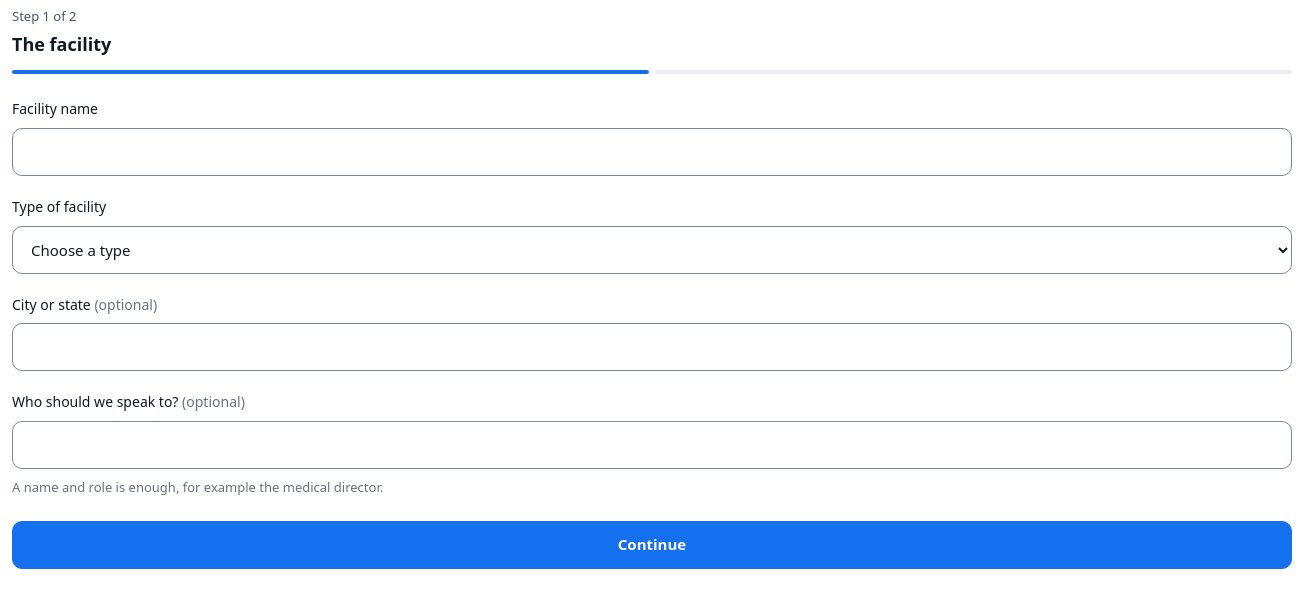
referral form › takes the referrer back to the facility step when hid-system refuses the facility’s name
This screenshot has width=1304, height=614.
Type "Lagos General Hospital" into the field named "facilityName". click: (652, 152)
box: [12,128,1292,176]
Select "Clinic" in the dropdown labelled "Type of facility". click: (652, 250)
box: [12,226,1292,274]
Click the button "Continue". click: (652, 545)
box: [12,521,1292,569]
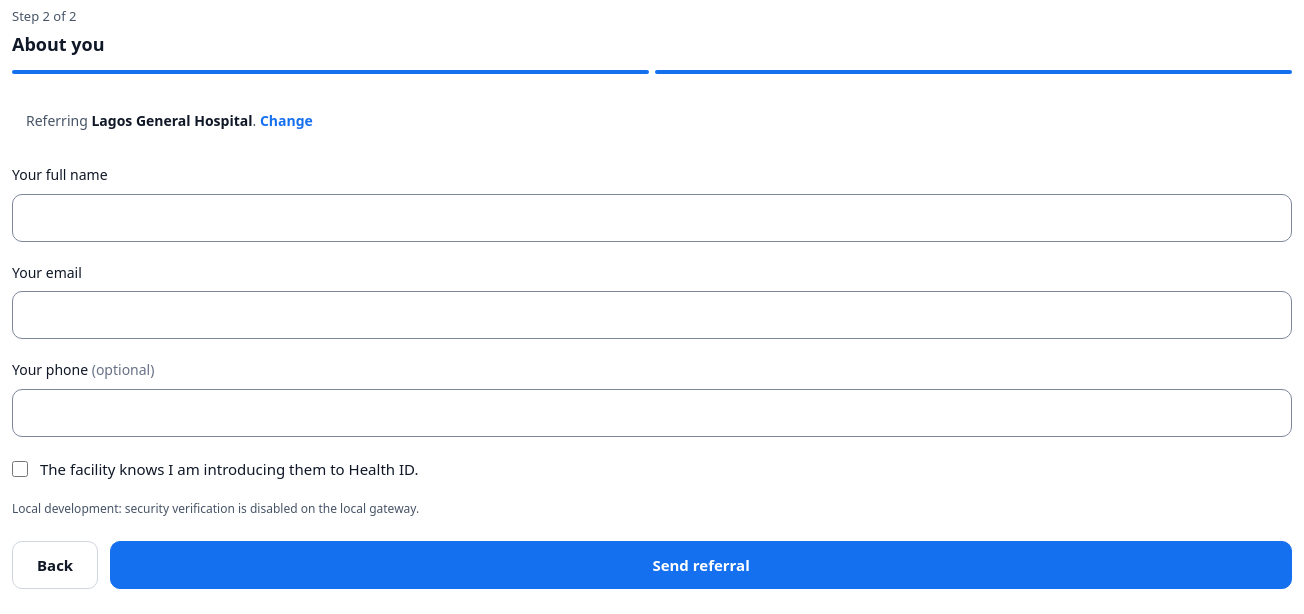
Type "Ada Okafor" into the field named "referrerName". click: (652, 218)
box: [12,194,1292,242]
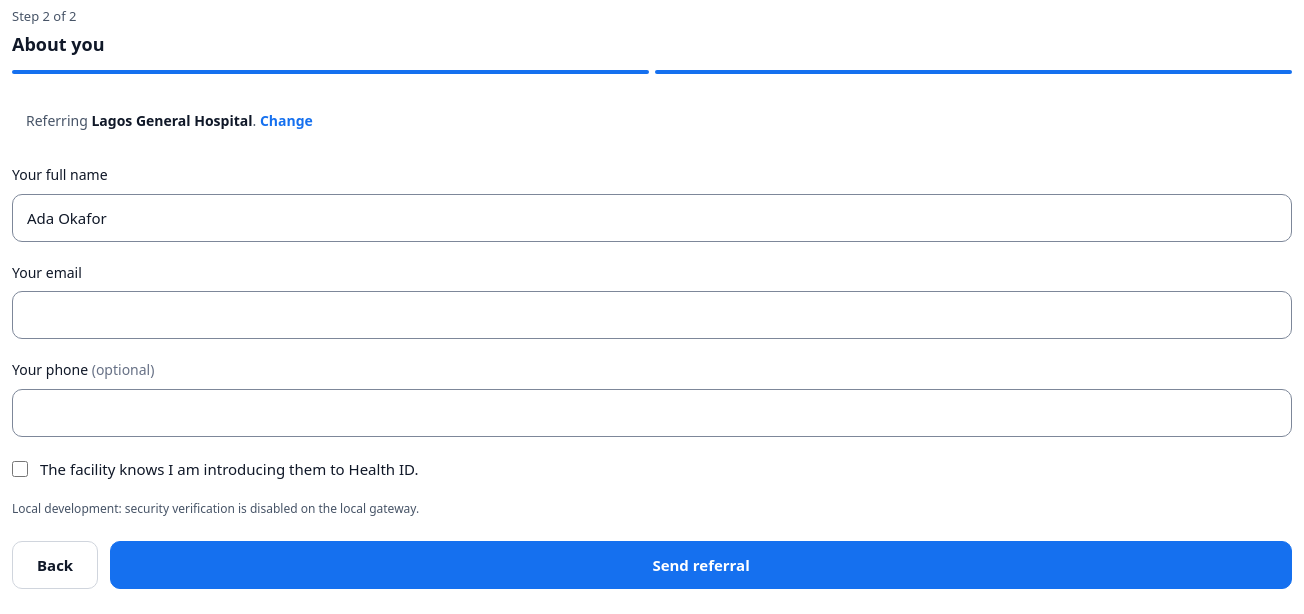
Type "ada@example.test" into the field labelled "Your email". click: (652, 315)
box: [12,291,1292,339]
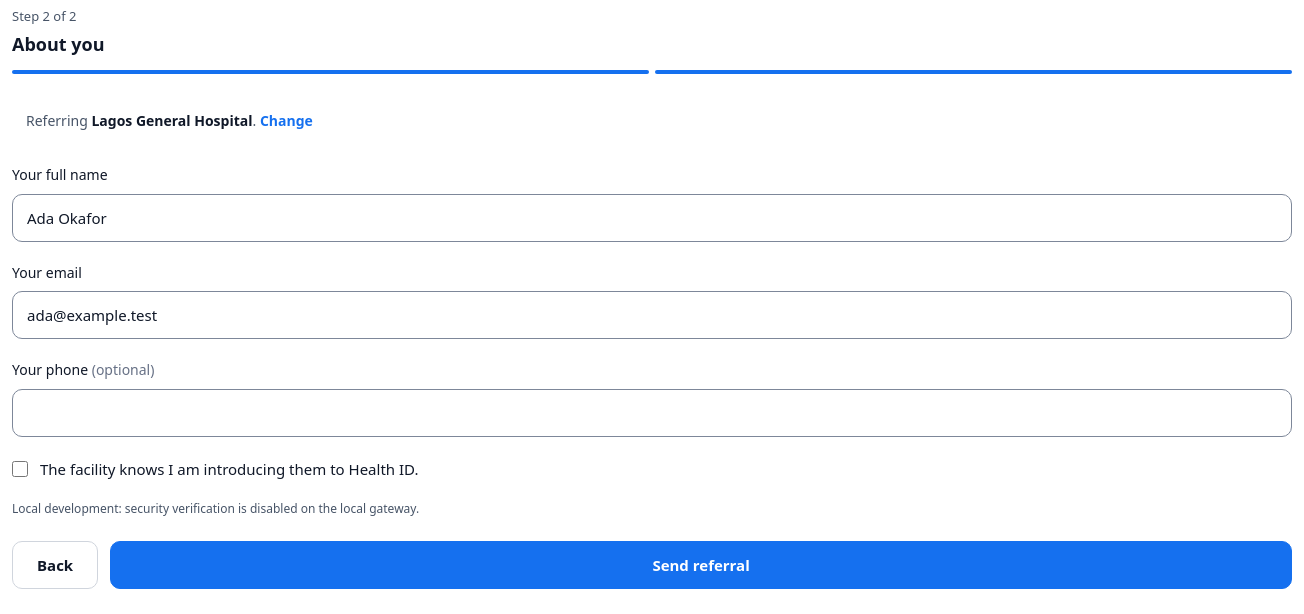
Type "+234 803 000 0000" into the field labelled "Your phone (optional)". click: (652, 413)
box: [12,389,1292,437]
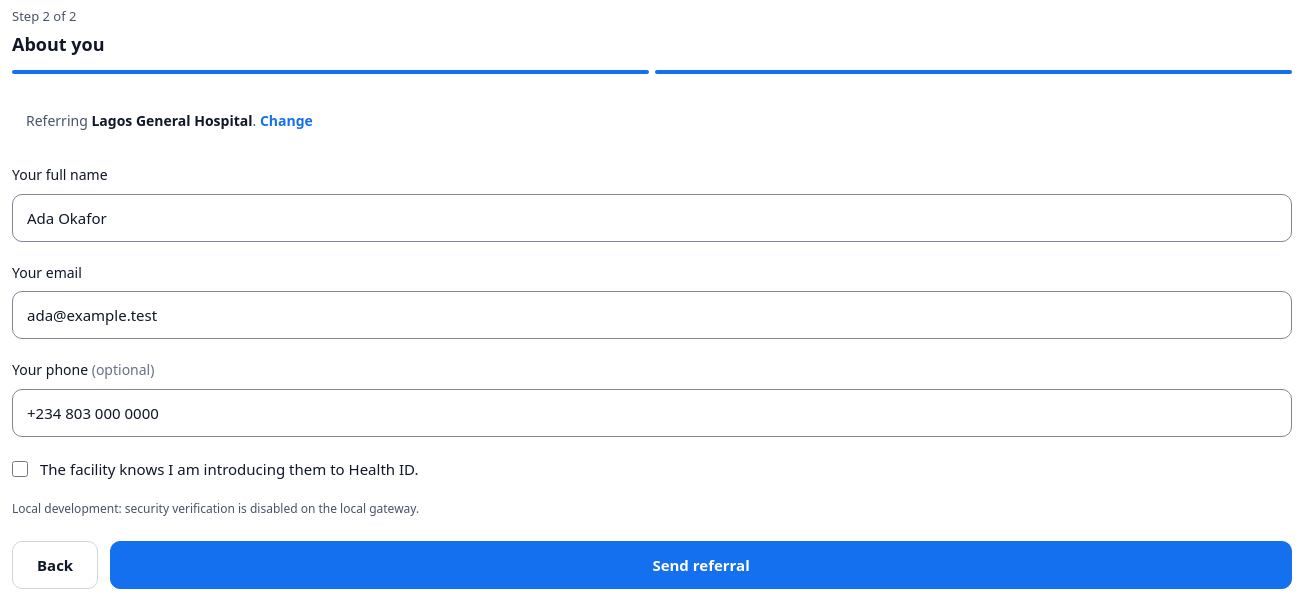
Click the checkbox labelled "The facility knows I am introducing them to Health ID.". click: (20, 469)
box: [12,461,28,477]
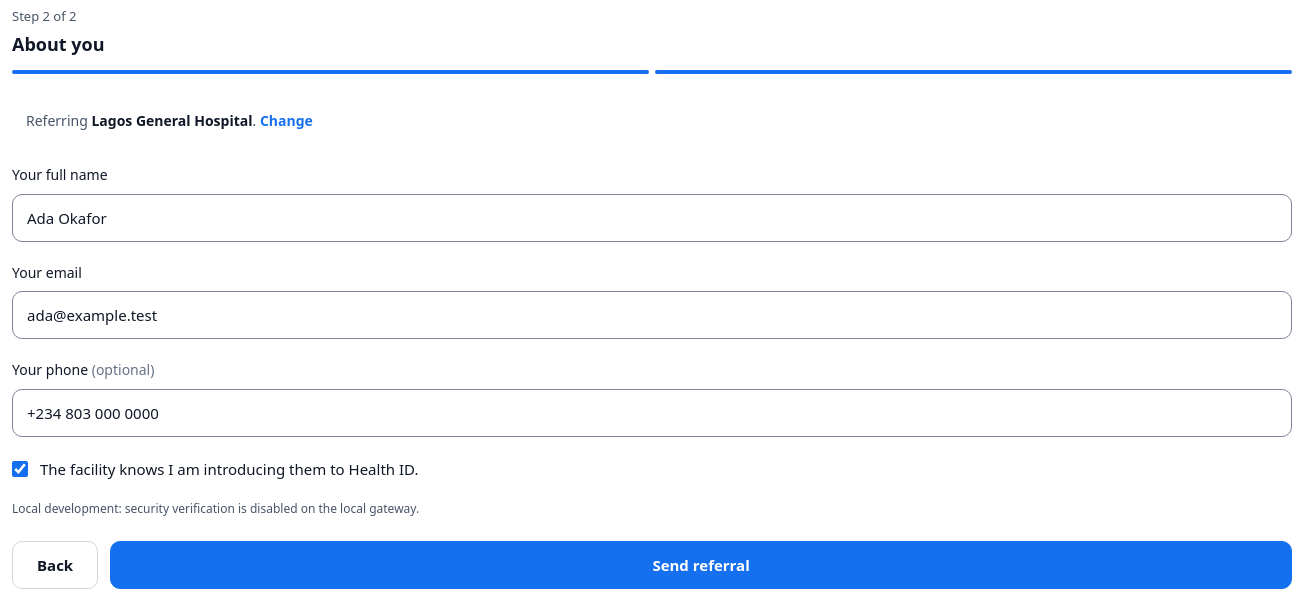
Click the button "Send referral". click: (701, 565)
box: [110,541,1292,589]
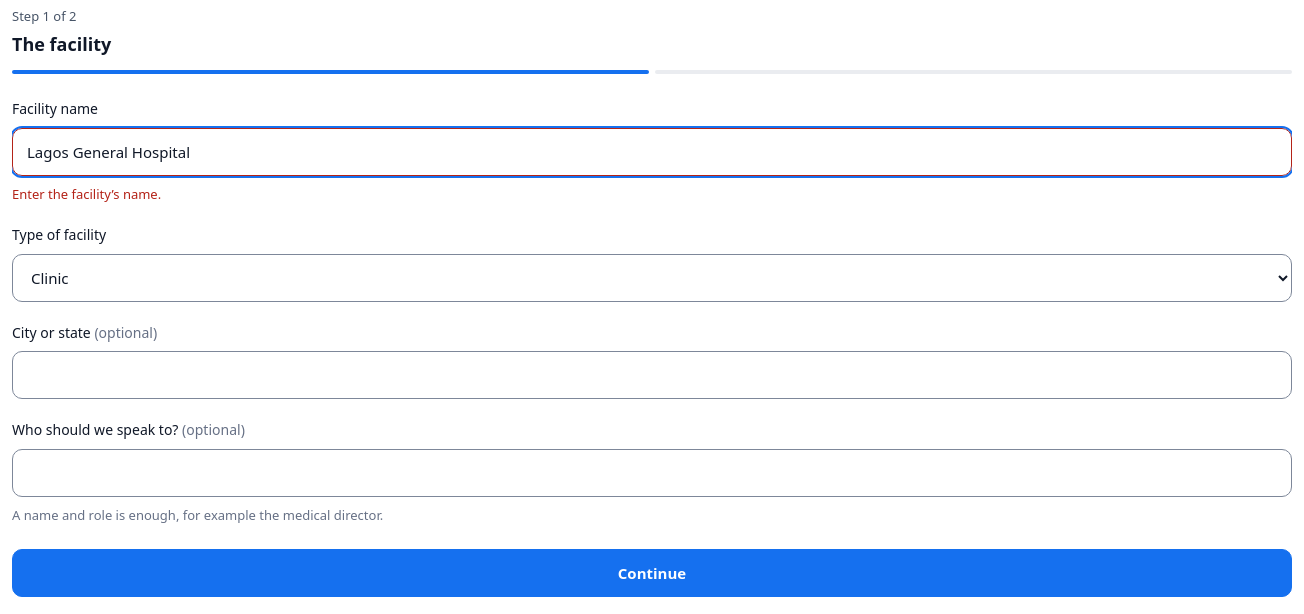
Expected: the text "Enter the facility’s name." is shown, [12,185,161,203]
Expected: the text "Step 1 of 2" is shown, [12,7,76,25]
